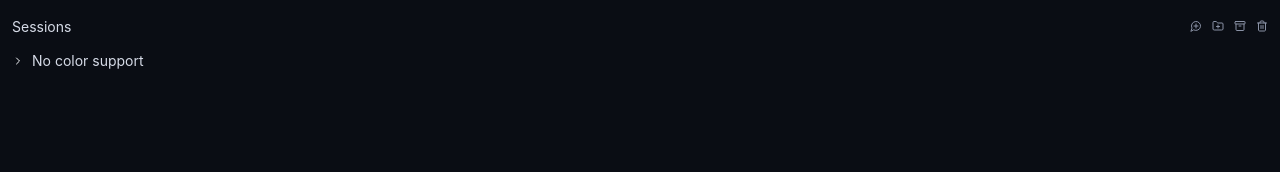
it: <FolderTree> › hides folder color actions when the explorer cannot persist them
Right-click the list item "No color support" at {"x": 78, "y": 60}, box left=12, top=52, right=144, bottom=69
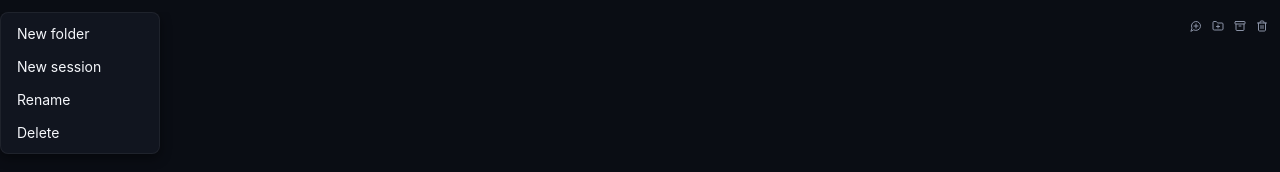
Now the button with test id "ctx-rename" is shown, box left=5, top=83, right=155, bottom=116
